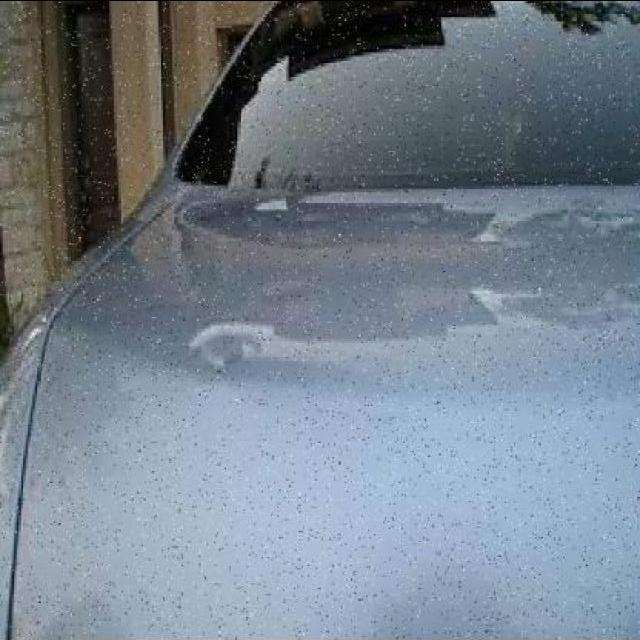bonnet-dent: (27, 231, 639, 637)
